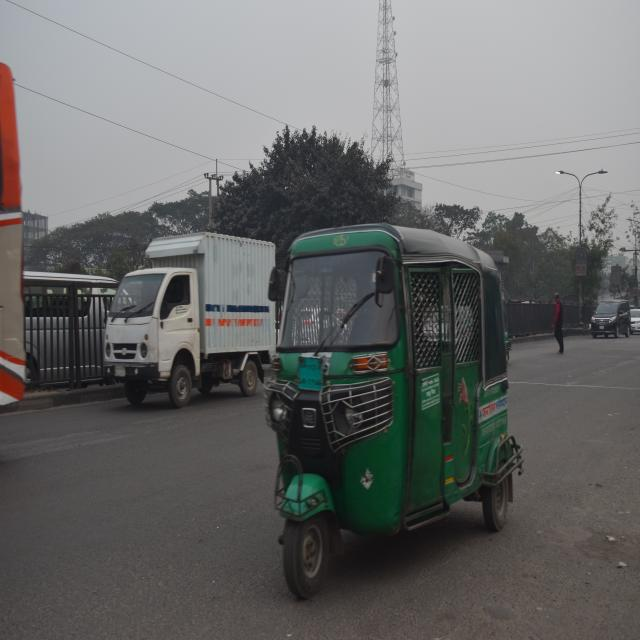car: (0, 53, 35, 422), (587, 293, 631, 347), (627, 305, 640, 335)
pickup-van: (99, 224, 275, 423)
